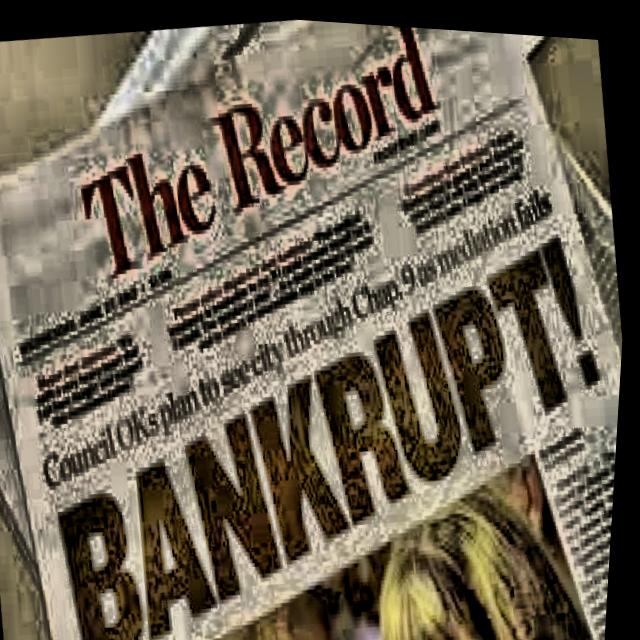Paper: (0, 0, 640, 640), (0, 79, 636, 605), (63, 4, 562, 182)
